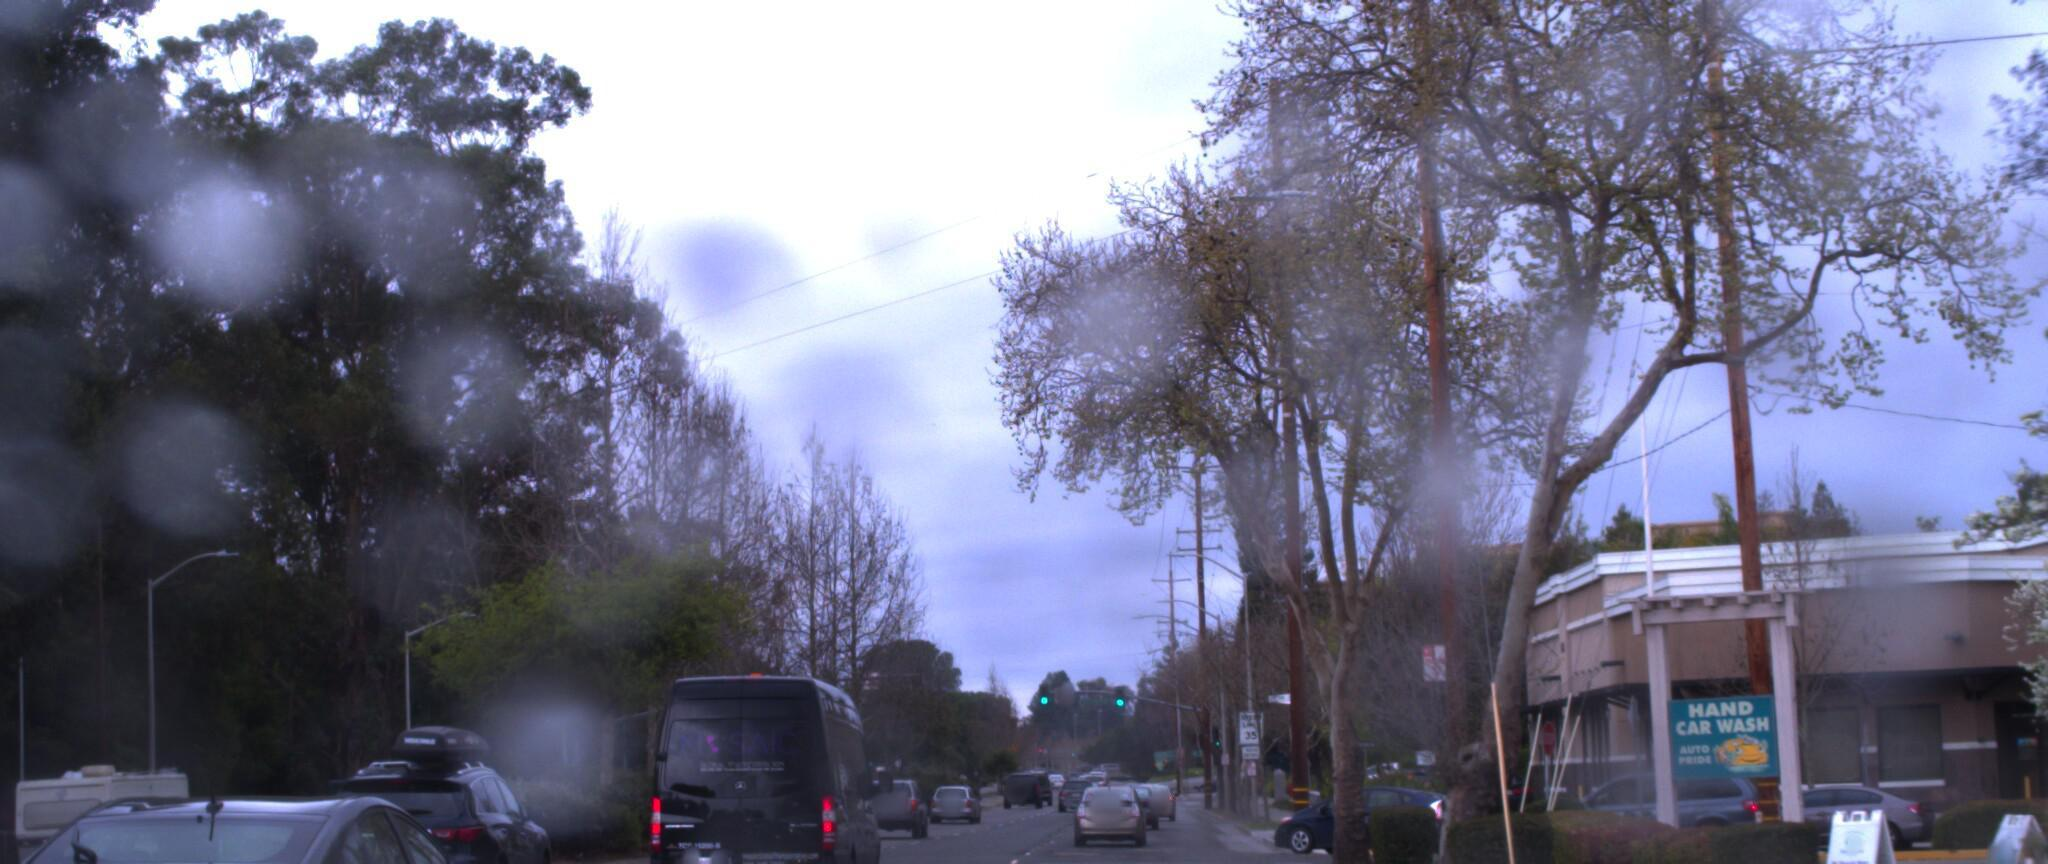car: (296, 696, 566, 864), (1514, 752, 1770, 831), (1680, 756, 1932, 834), (1250, 757, 1479, 833), (1354, 709, 1443, 773), (1064, 748, 1149, 814), (859, 754, 939, 812)
other_vehicle: (641, 641, 893, 864)
